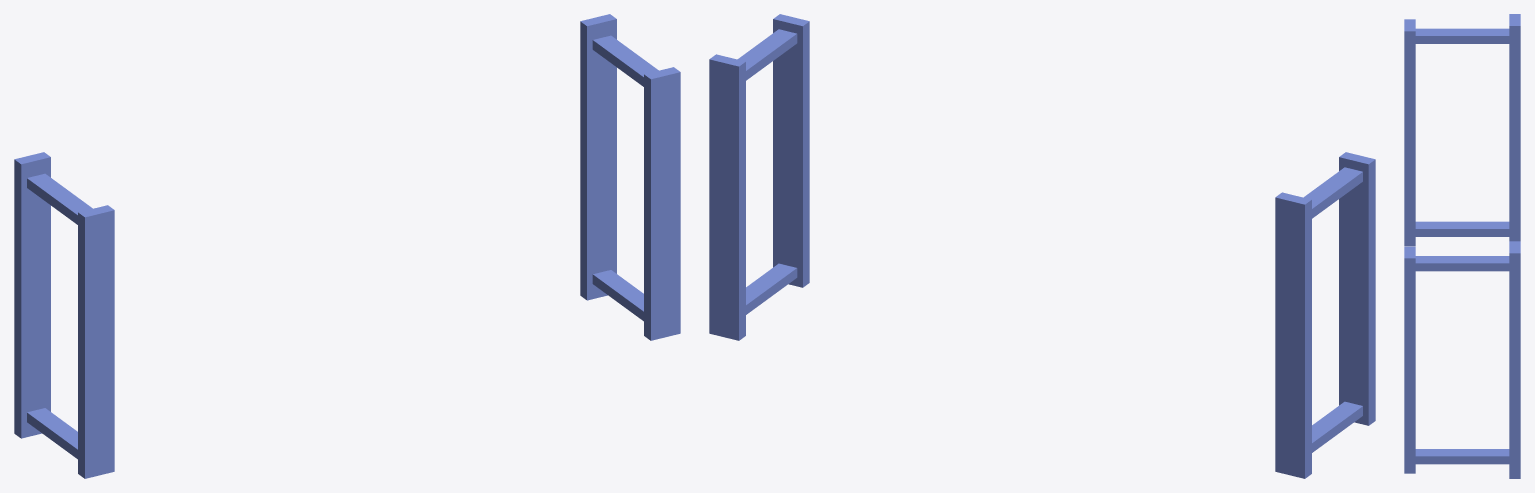
The model's file is SM_PROP_SUPPORT_BASE_01.fbx.
3 renders of one model, left to right at view 1: azimuth 30°, elevation 25°; view 2: azimuth 150°, elevation 25°; view 3: azimuth 270°, elevation 25°, orthographic. The views are drawn at different scales.
Visible parts, largest first — view 1: SM_PROP_SUPPORT_BASE_01; view 2: SM_PROP_SUPPORT_BASE_01; view 3: SM_PROP_SUPPORT_BASE_01.
Part boxes in pixels (x1,y1,x2,y2): SM_PROP_SUPPORT_BASE_01: (14,14,680,478); SM_PROP_SUPPORT_BASE_01: (709,14,1375,478); SM_PROP_SUPPORT_BASE_01: (1404,14,1520,478).
Bounding box in the file's own units: 2 × 0.88 × 0.4109.
